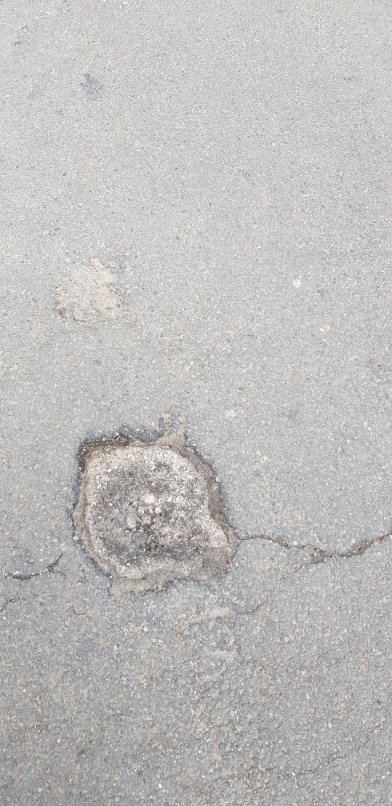pothole: (61, 421, 248, 591)
